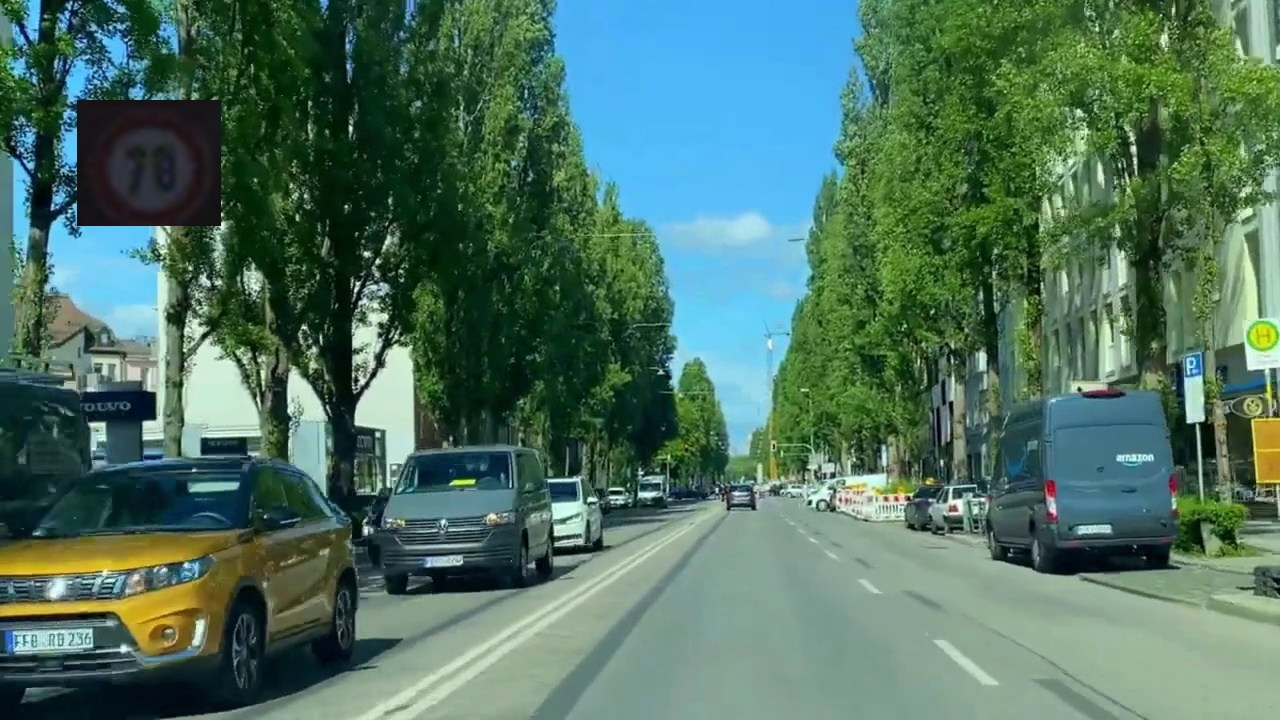Speed 70: (77, 100, 221, 226)
